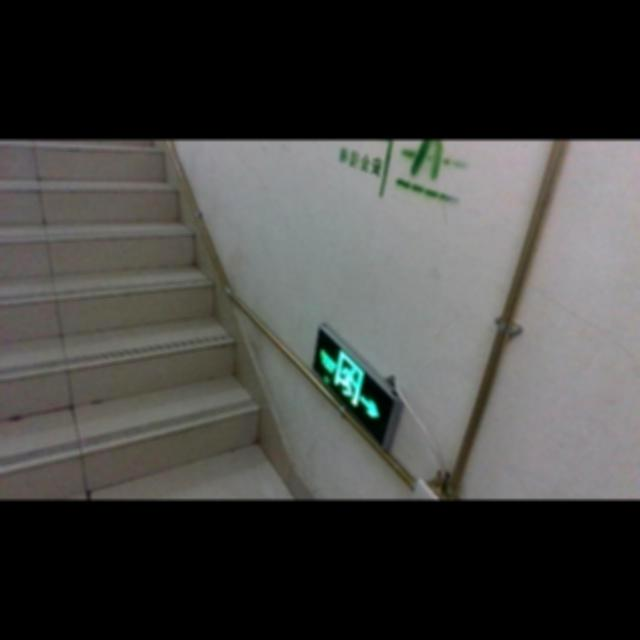stair: (0, 153, 245, 466)
